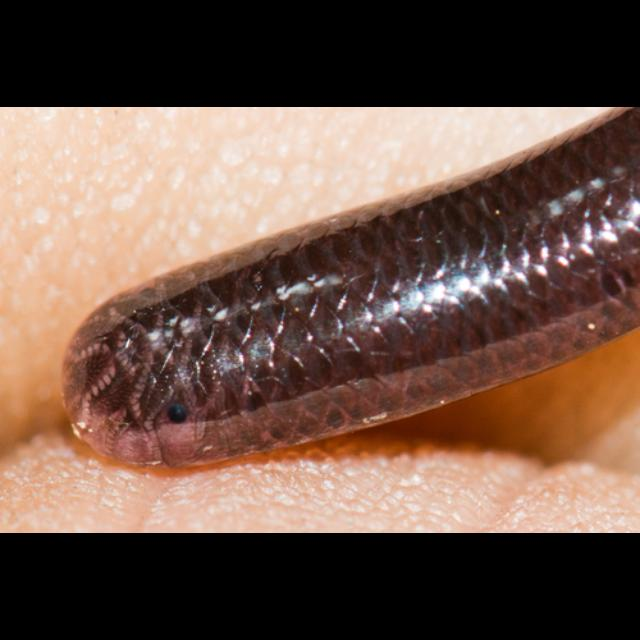snake: (48, 110, 640, 476)
